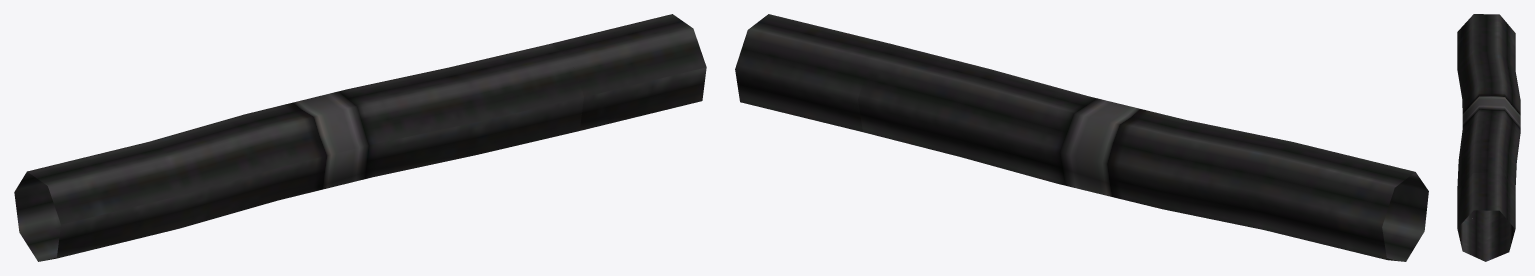
Rendered from lab_thick_straight_small.dae.
3 views of the same model, side by side, from view 1: azimuth 30°, elevation 25°; view 2: azimuth 150°, elevation 25°; view 3: azimuth 270°, elevation 25° (orthographic). The views are drawn at different scales.
Parts seen in each view (by area): view 1: straight_tiny; view 2: straight_tiny; view 3: straight_tiny.
Boxes of the visible parts, x1=… form: straight_tiny: x1=14, y1=14, x2=706, y2=261; straight_tiny: x1=735, y1=14, x2=1428, y2=261; straight_tiny: x1=1457, y1=14, x2=1520, y2=261.
Size of the model in its own units: 1 by 0.1228 by 0.1366.
